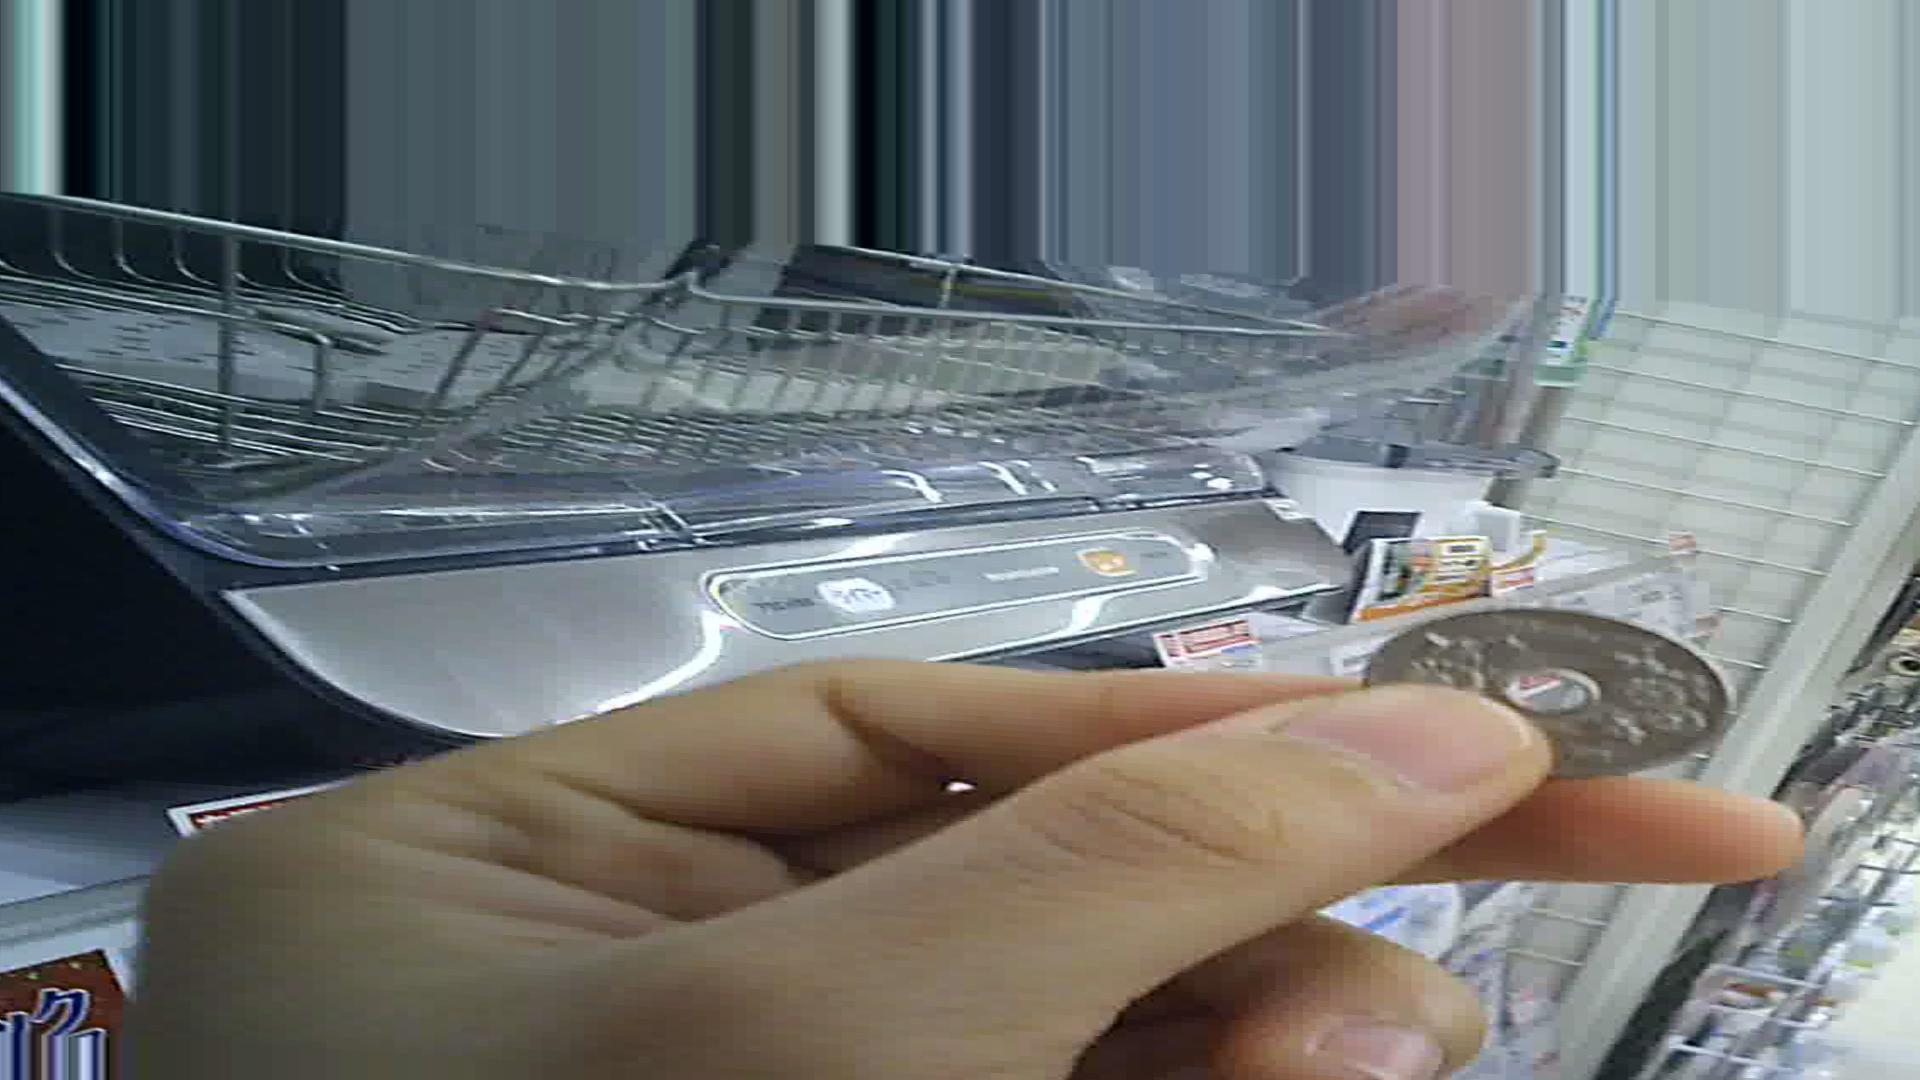50 Yen: (1360, 608, 1724, 804)
